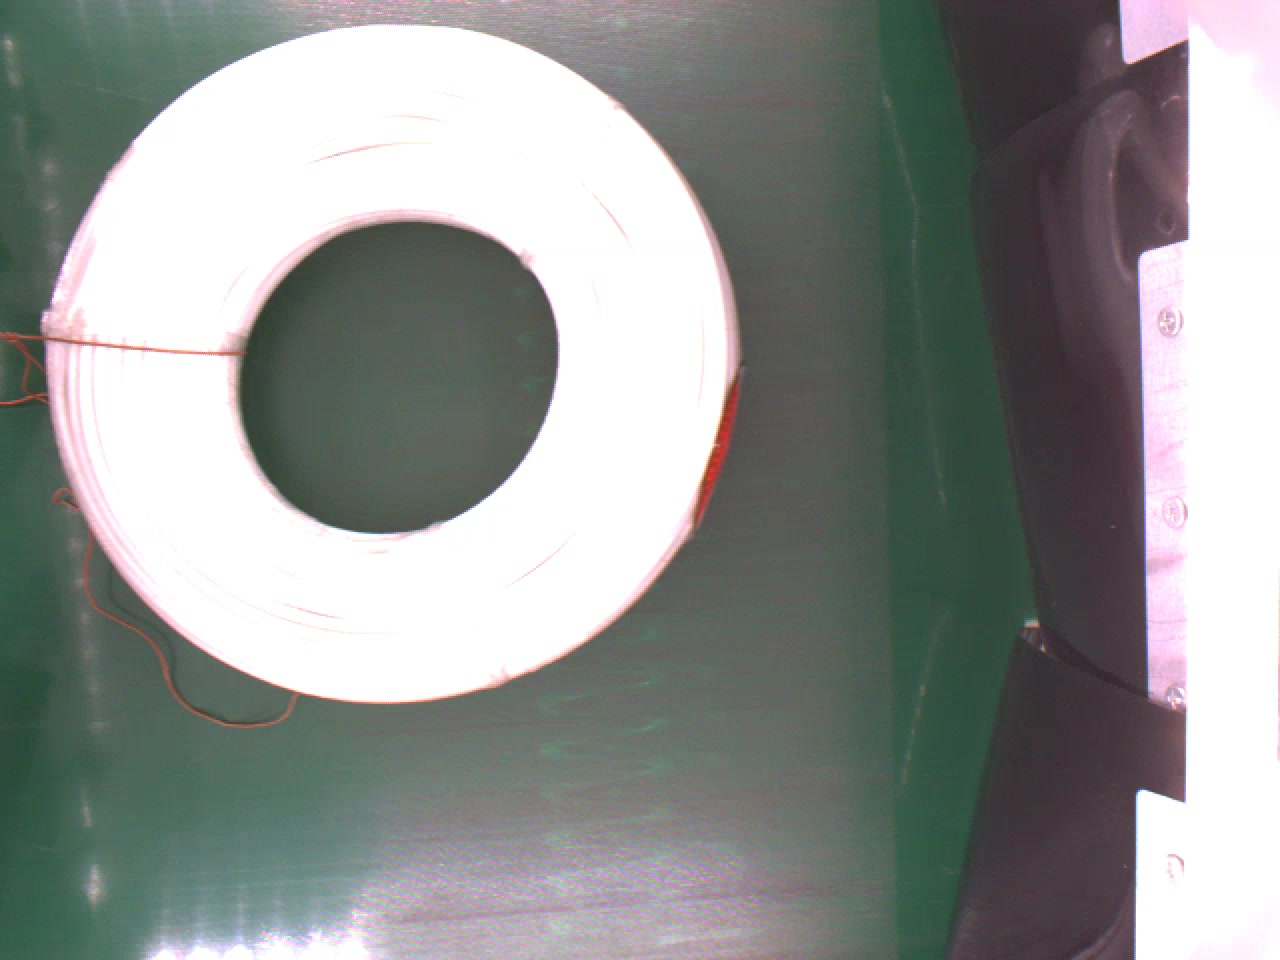white: (39, 25, 748, 706)
